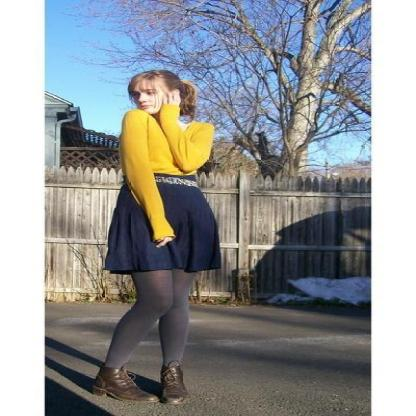shirt: (124, 103, 218, 237)
shoe: (87, 358, 188, 404)
skirt: (102, 175, 227, 274)
